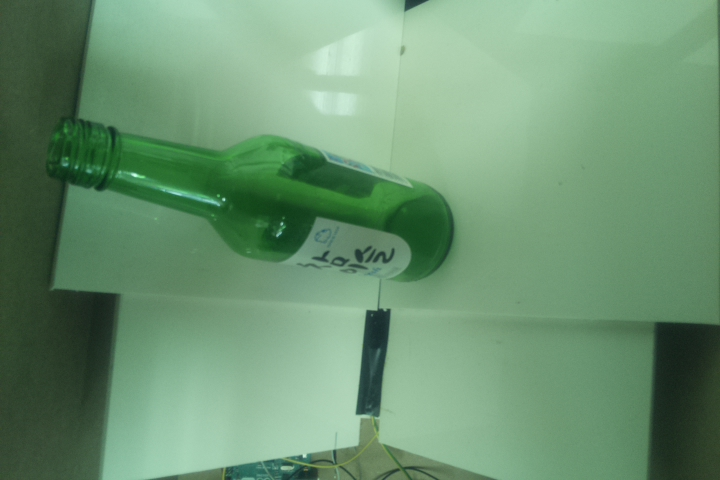soju: (46, 113, 453, 285)
